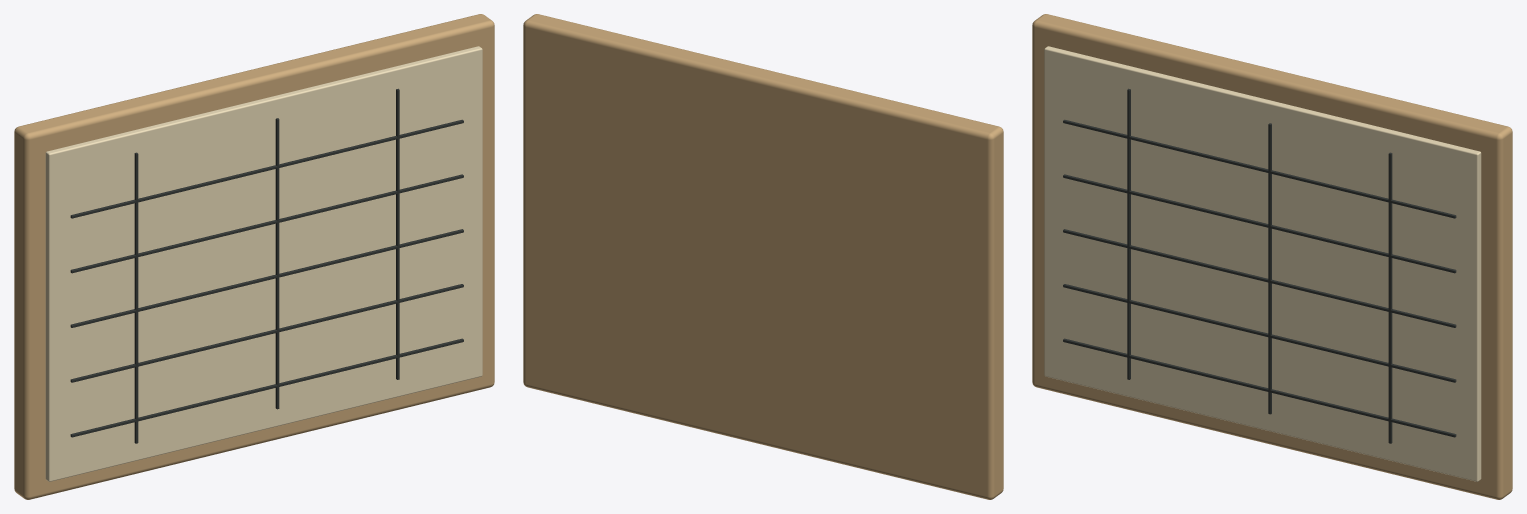
File: sawmill-and-timber-yard-dispatch-tally-board-8d2a64e4__31204.glb
The picture shows the model from 3 angles, left to right: view 1: azimuth 30°, elevation 25°; view 2: azimuth 150°, elevation 25°; view 3: azimuth 330°, elevation 25°; orthographic projection.
Visible parts, largest first — view 1: dispatch-tally-board; view 2: dispatch-tally-board; view 3: dispatch-tally-board.
Boxes of the visible parts, <box> form: dispatch-tally-board: <box>14,14,494,499</box>; dispatch-tally-board: <box>523,14,1003,499</box>; dispatch-tally-board: <box>1032,14,1512,499</box>.
Size of the model in its own units: 0.9 by 0.67 by 0.067.
